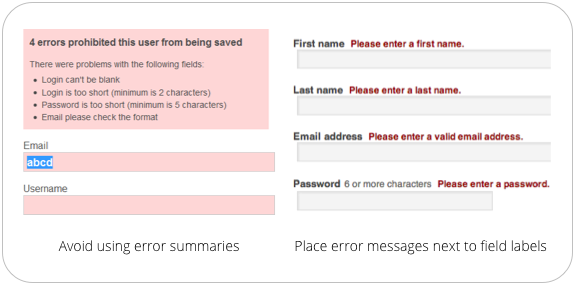error_field: (21, 151, 276, 173), (21, 194, 276, 216)
error_message: (39, 74, 227, 123), (28, 37, 245, 49), (28, 59, 203, 70), (367, 132, 524, 142), (348, 38, 465, 49), (349, 85, 462, 96), (436, 178, 549, 189)
